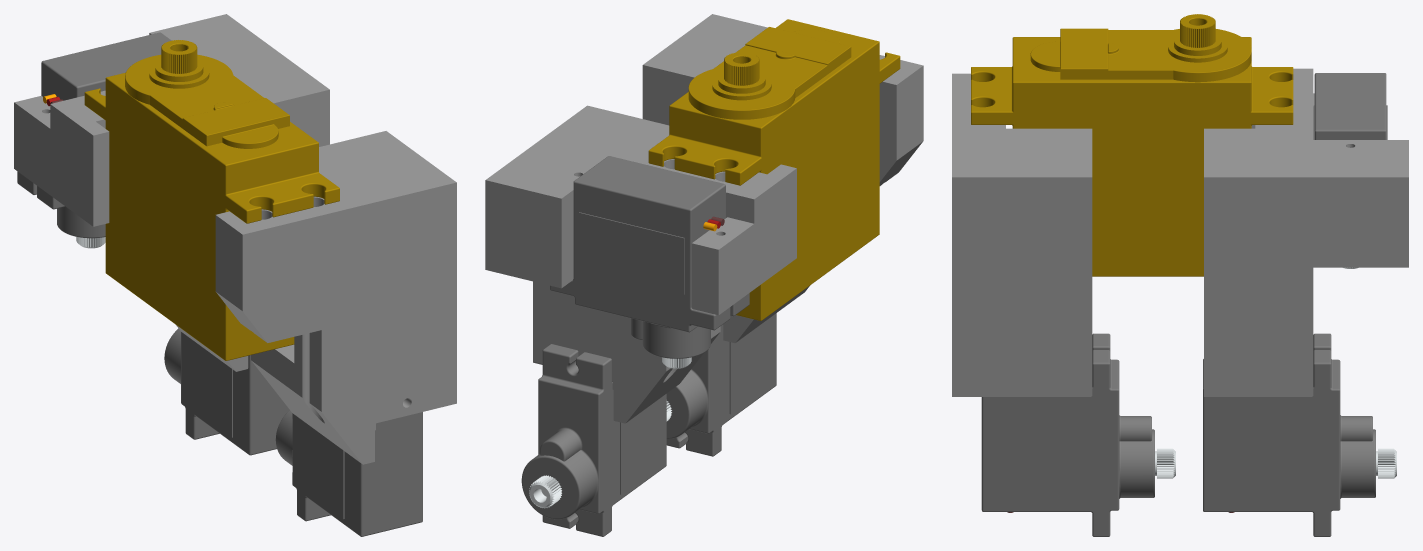
Rendered from wrist_yaw.dae.
The picture shows the model from 3 angles, left to right: view 1: azimuth 30°, elevation 25°; view 2: azimuth 150°, elevation 25°; view 3: azimuth 270°, elevation 25°; orthographic projection.
Visible parts, largest first — view 1: wrist_yaw; view 2: wrist_yaw; view 3: wrist_yaw.
Boxes of the visible parts, x1=… form: wrist_yaw: x1=14, y1=14, x2=456, y2=536; wrist_yaw: x1=485, y1=14, x2=923, y2=536; wrist_yaw: x1=952, y1=14, x2=1408, y2=536.
Size of the model in its own units: 0.0431 by 0.0765 by 0.0832.
